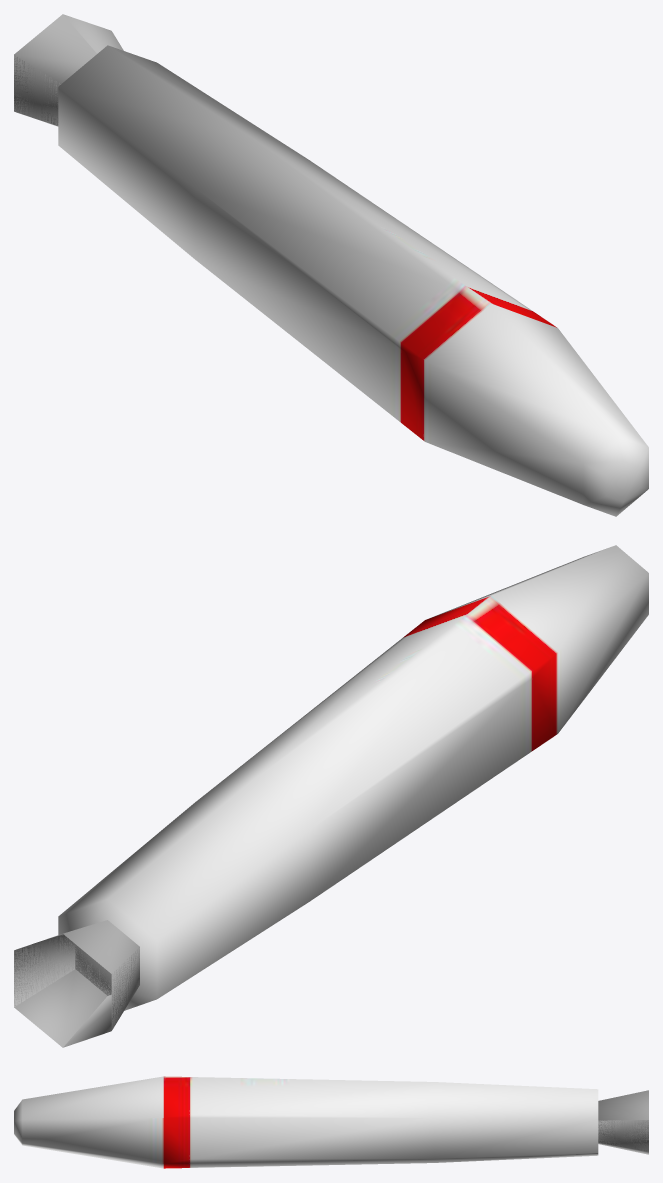
File: MISSILE.fbx
3 views of the same model, one above another, from view 1: azimuth 30°, elevation 25°; view 2: azimuth 150°, elevation 25°; view 3: azimuth 270°, elevation 25° (orthographic). The views are drawn at different scales.
Parts seen in each view (by area): view 1: MISSILE:Imported_DXF_Object, MISSILE:Layer2; view 2: MISSILE:Imported_DXF_Object, MISSILE:Layer2; view 3: MISSILE:Imported_DXF_Object, MISSILE:Layer2.
Boxes of the visible parts, x1=… form: MISSILE:Imported_DXF_Object: x1=58, y1=45, x2=648, y2=516; MISSILE:Layer2: x1=14, y1=14, x2=123, y2=126; MISSILE:Imported_DXF_Object: x1=58, y1=545, x2=648, y2=1010; MISSILE:Layer2: x1=14, y1=920, x2=139, y2=1047; MISSILE:Imported_DXF_Object: x1=14, y1=1076, x2=598, y2=1168; MISSILE:Layer2: x1=598, y1=1090, x2=648, y2=1154.
Size of the model in its own units: 12.32 by 14.4 by 90.
Materials: 1 (1 with a texture image).
